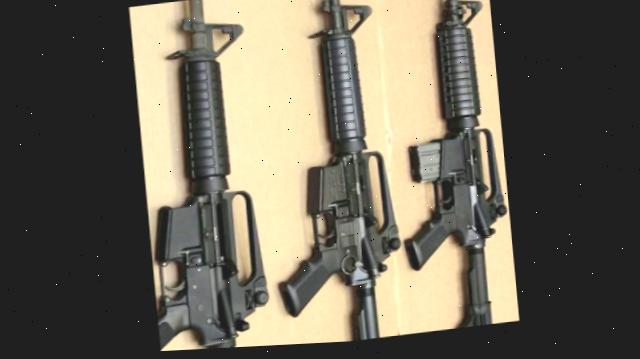rifle: (241, 0, 411, 349), (128, 0, 276, 354), (379, 0, 517, 338)
